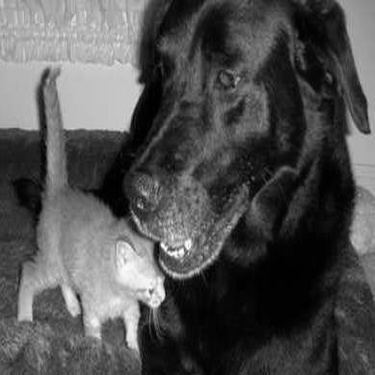cat: (15, 64, 166, 351)
dog: (125, 8, 371, 370)
